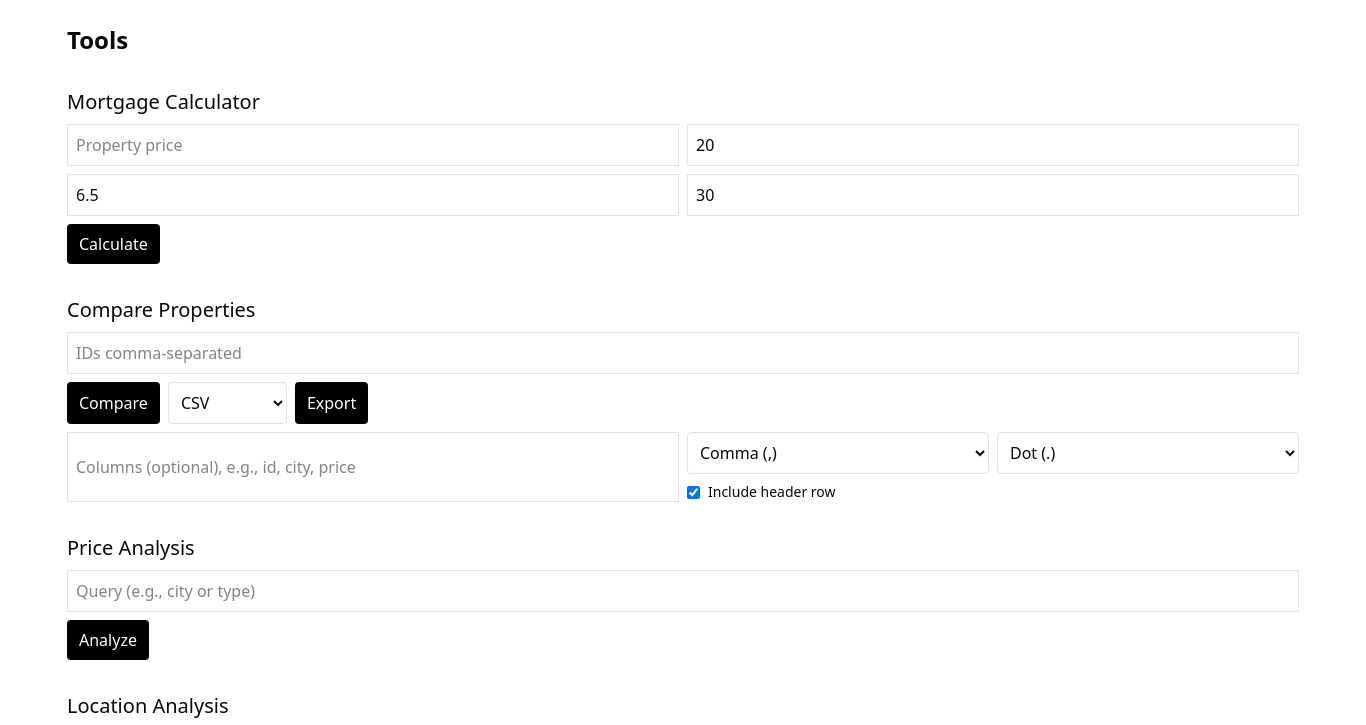
it: ToolsPage › MortgageSection › shows error on API failure
Type "100000" into the field with placeholder "Property price". click: (373, 145)
box: 67,124 -> 679,166
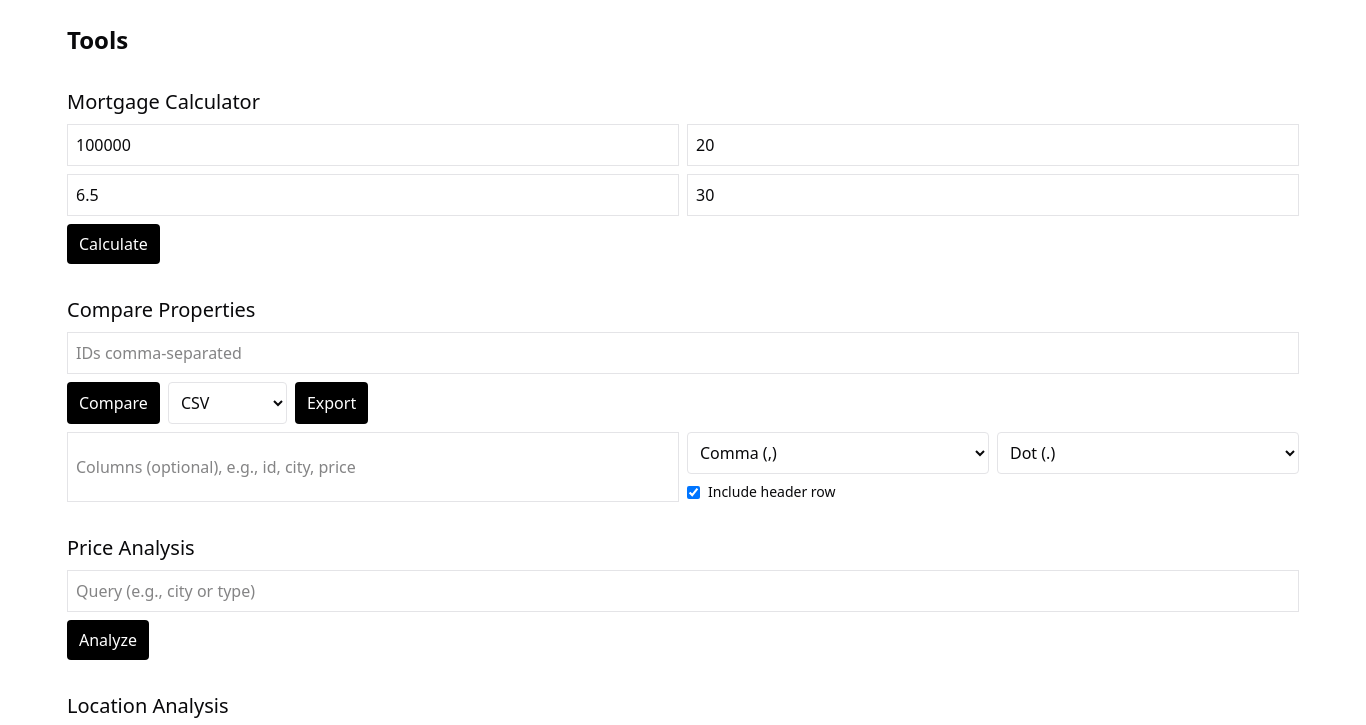
Click the button "Calculate". click: (113, 244)
box: 67,224 -> 160,264
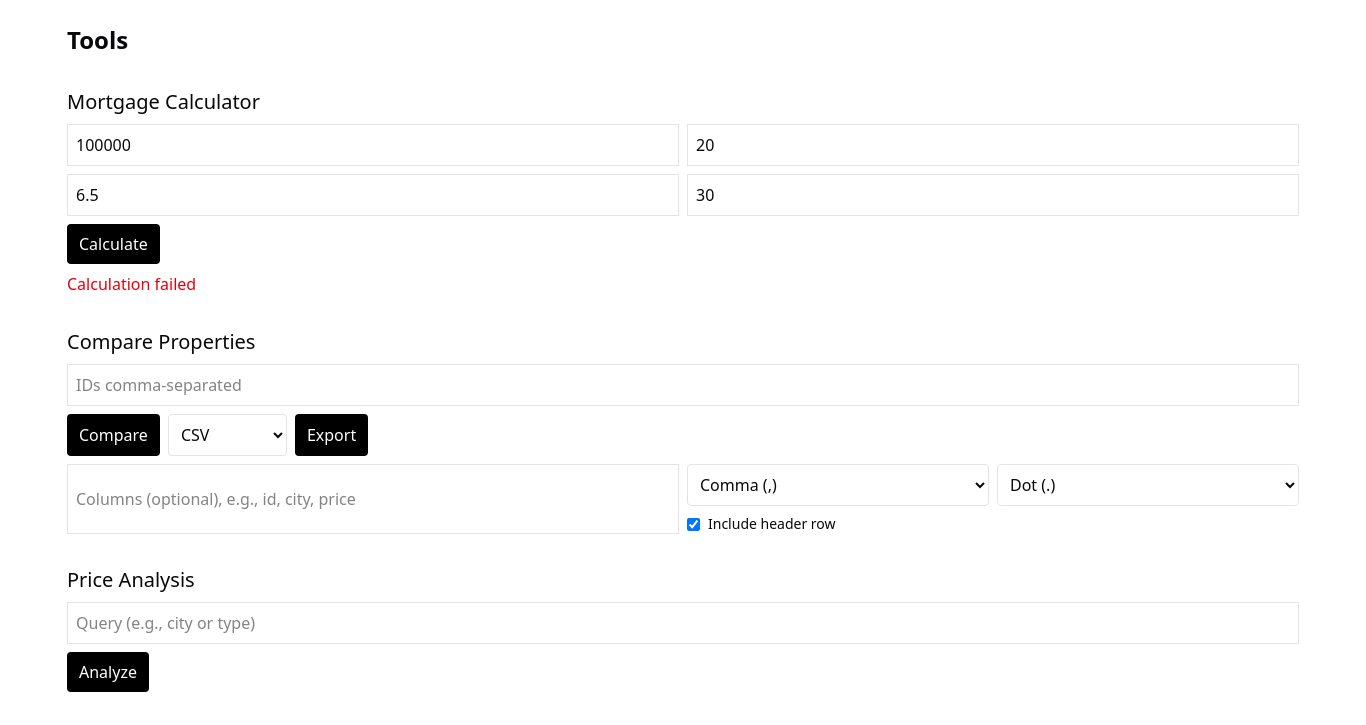
Check: the text "Calculation failed" is shown, box 67,273 -> 196,295
